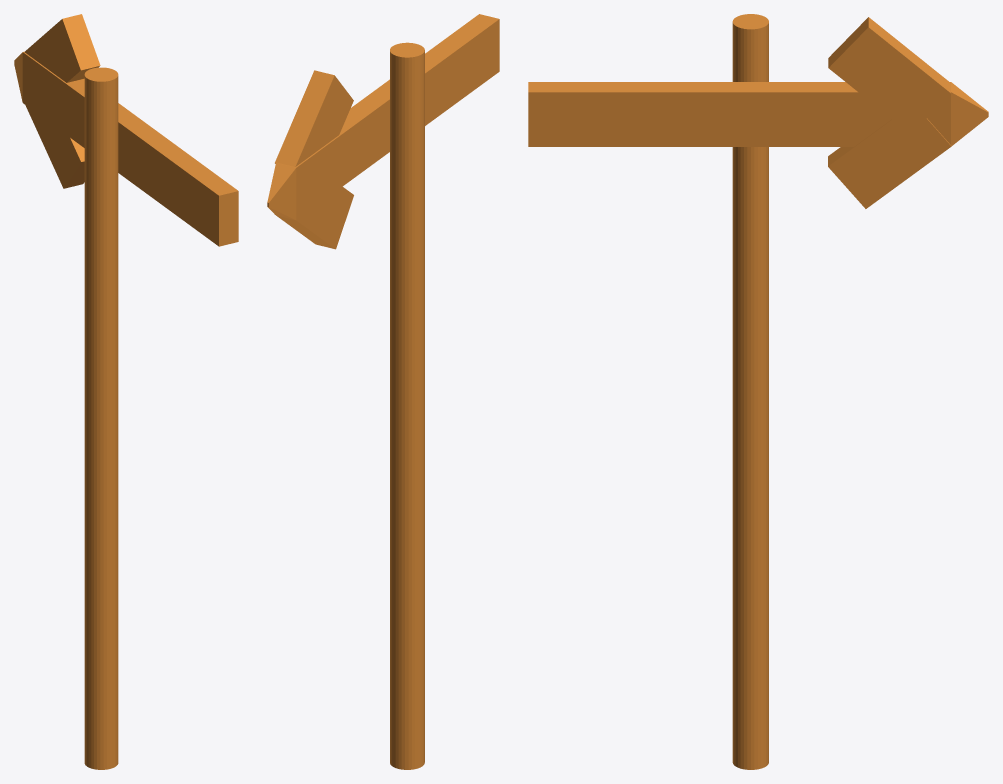
The model's file is Arrow Guide.fbx.
The picture shows the model from 3 angles, left to right: view 1: azimuth 30°, elevation 25°; view 2: azimuth 150°, elevation 25°; view 3: azimuth 270°, elevation 25°; orthographic projection. The views are drawn at different scales.
Visible parts, largest first — view 1: Cylinder; view 2: Cylinder; view 3: Cylinder.
Part boxes in pixels (box(x1,y1,x2,y2)): Cylinder: box(14, 14, 238, 769); Cylinder: box(267, 14, 499, 769); Cylinder: box(528, 14, 988, 769).
Size of the model in its own units: 147 by 1975 by 1093.
